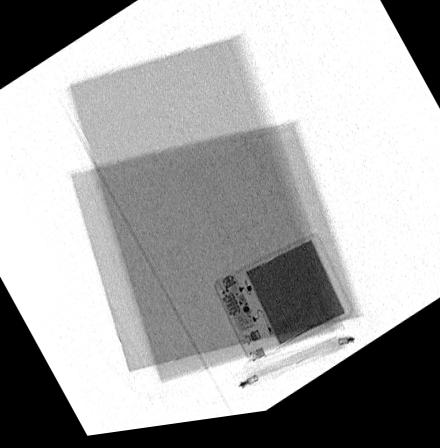Powerbank: (210, 241, 352, 370)
